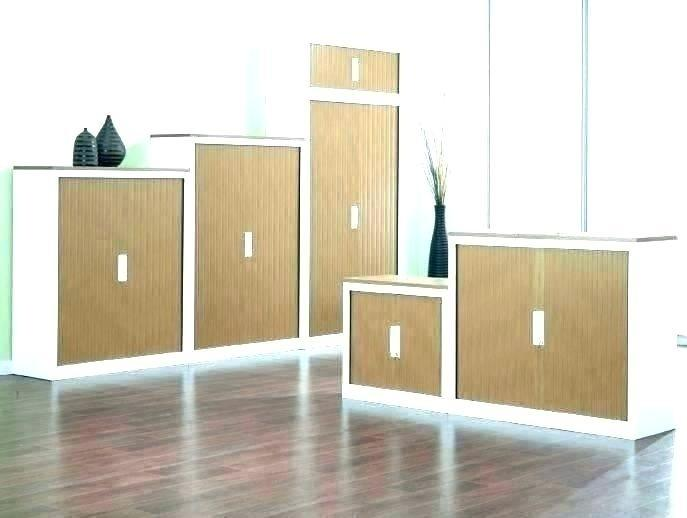cabinet_door: (458, 247, 540, 406), (539, 252, 622, 403), (59, 177, 122, 361), (121, 177, 183, 354), (194, 149, 249, 340), (311, 102, 356, 334), (247, 146, 300, 341), (356, 105, 398, 330), (398, 294, 440, 394), (350, 295, 395, 385), (312, 47, 356, 90), (358, 53, 396, 88)
handle: (117, 254, 129, 282), (394, 324, 402, 361), (530, 308, 537, 349), (539, 310, 545, 348), (386, 326, 393, 358), (348, 203, 356, 229), (353, 57, 360, 85), (350, 57, 355, 85), (248, 232, 253, 258), (356, 202, 360, 230), (243, 233, 248, 255)
